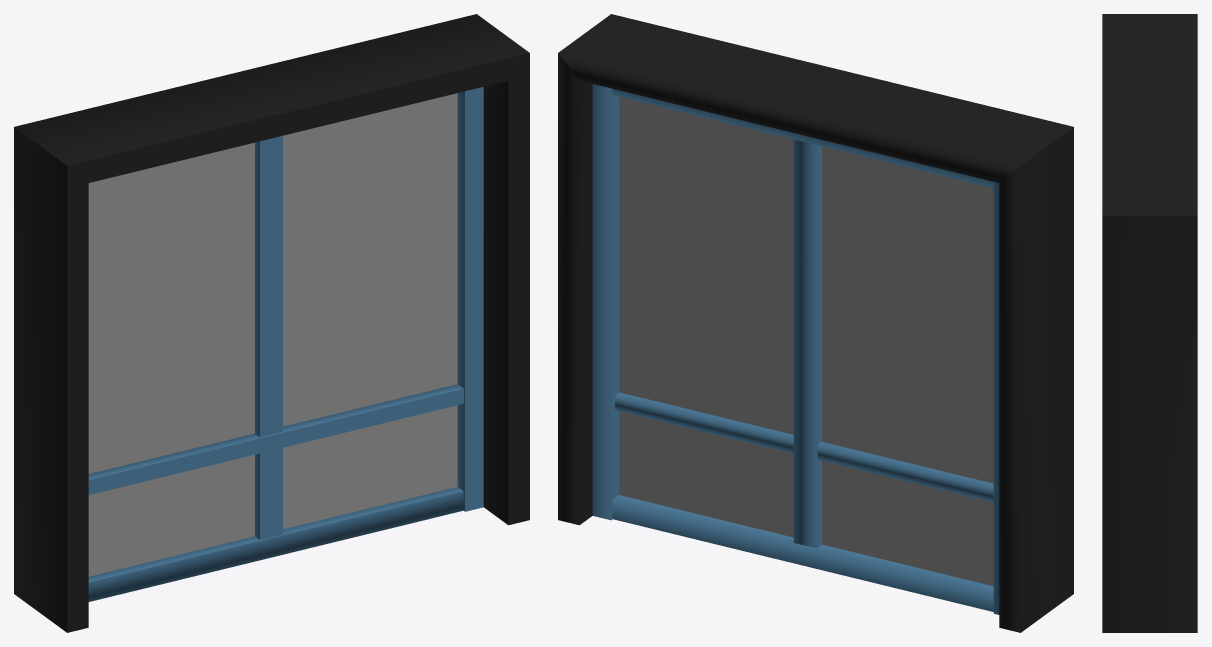
Rendered from G_Window_001_S1.FBX.
3 views of the same model, side by side, from view 1: azimuth 30°, elevation 25°; view 2: azimuth 150°, elevation 25°; view 3: azimuth 270°, elevation 25° (orthographic). The views are drawn at different scales.
Parts seen in each view (by area): view 1: S_M_Ornament_Window001_2x1x2_LOD0; view 2: S_M_Ornament_Window001_2x1x2_LOD0; view 3: S_M_Ornament_Window001_2x1x2_LOD0.
Boxes of the visible parts, left/top/right/bottom form: S_M_Ornament_Window001_2x1x2_LOD0: left=14, top=14, right=529, bottom=632; S_M_Ornament_Window001_2x1x2_LOD0: left=558, top=14, right=1073, bottom=632; S_M_Ornament_Window001_2x1x2_LOD0: left=1102, top=14, right=1197, bottom=632.
Bounding box in the file's own units: 215 × 208 × 42.88.
